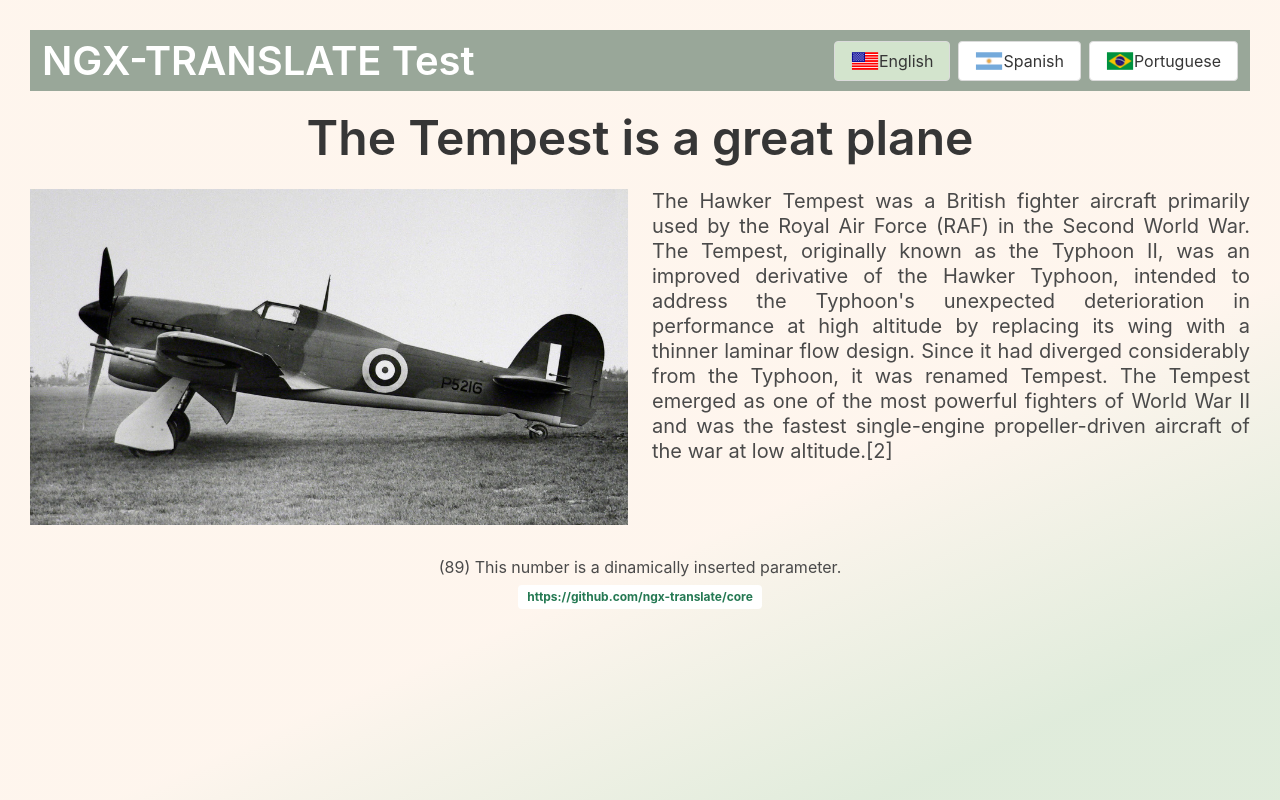
Test: App simple test › Click the Spanish language button
Click the button "Spanish" at point(1020, 61), box [959,41,1081,81]
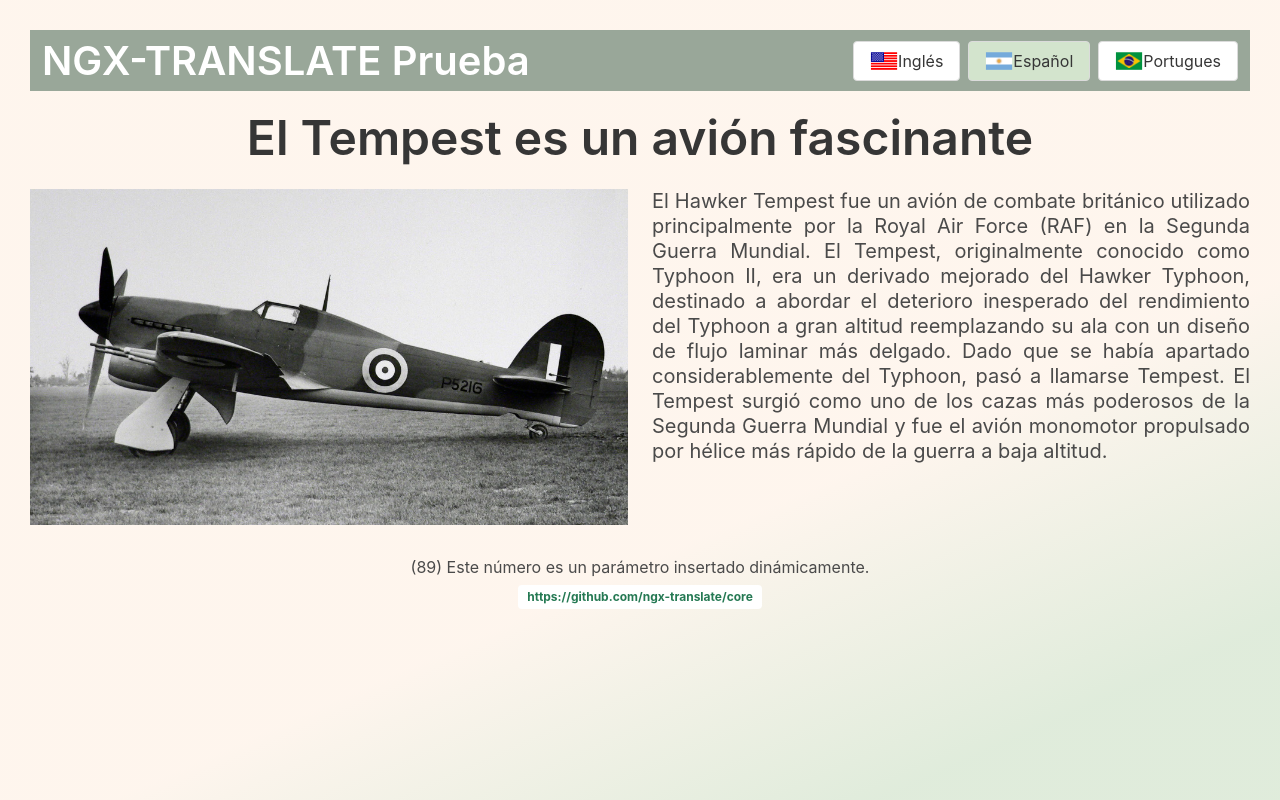
Check: the text "El Tempest es un avión fascinante" is shown, box [247,108,1033,167]
